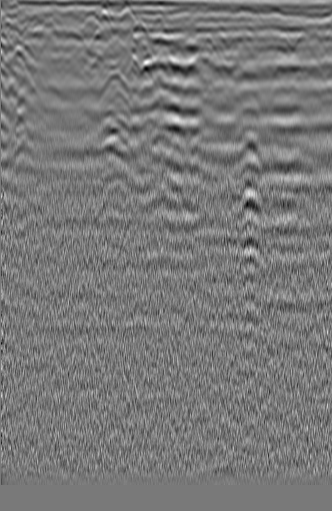가스: (87, 183, 130, 223)
상수: (4, 45, 37, 87)
오수: (287, 36, 321, 76)
우수: (138, 53, 168, 83)
